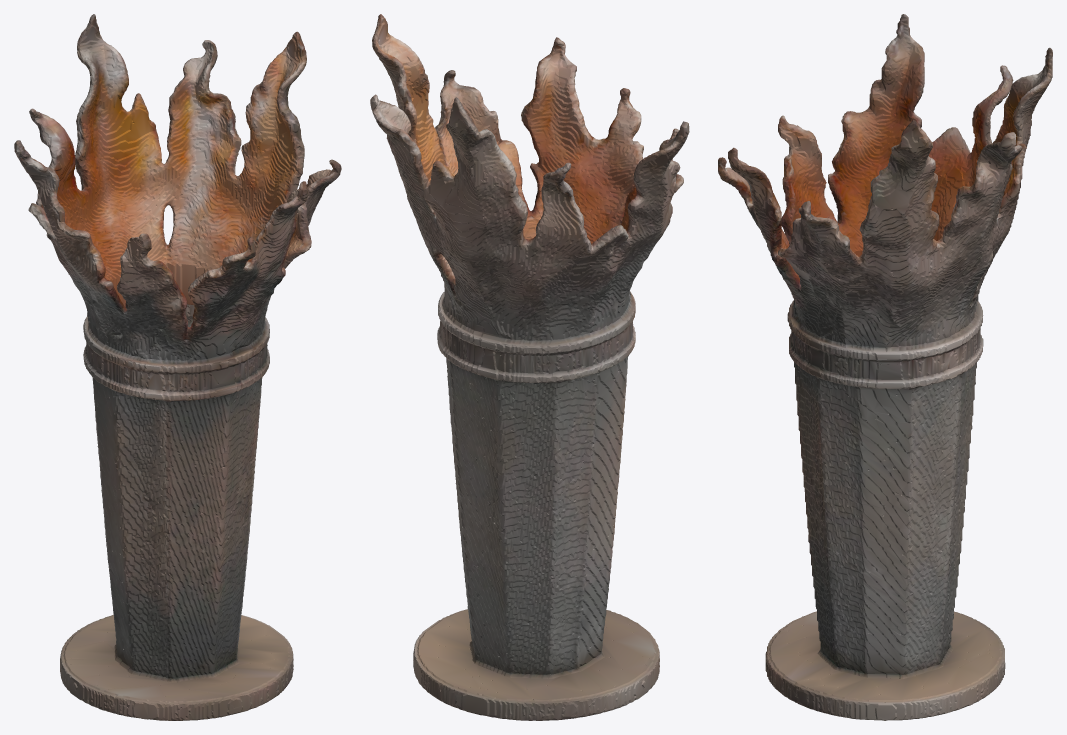
File: H2-web.glb
3 renders of one model, left to right at view 1: azimuth 30°, elevation 25°; view 2: azimuth 150°, elevation 25°; view 3: azimuth 270°, elevation 25°, orthographic. The views are drawn at different scales.
Parts seen in each view (by area): view 1: H2_0.6.stl; view 2: H2_0.6.stl; view 3: H2_0.6.stl.
Part boxes in pixels (x1,y1,x2,y2): H2_0.6.stl: (14,14,341,720); H2_0.6.stl: (370,14,689,720); H2_0.6.stl: (718,14,1052,720).
Bounding box in the file's own units: 0.1514 × 0.3 × 0.1466.
